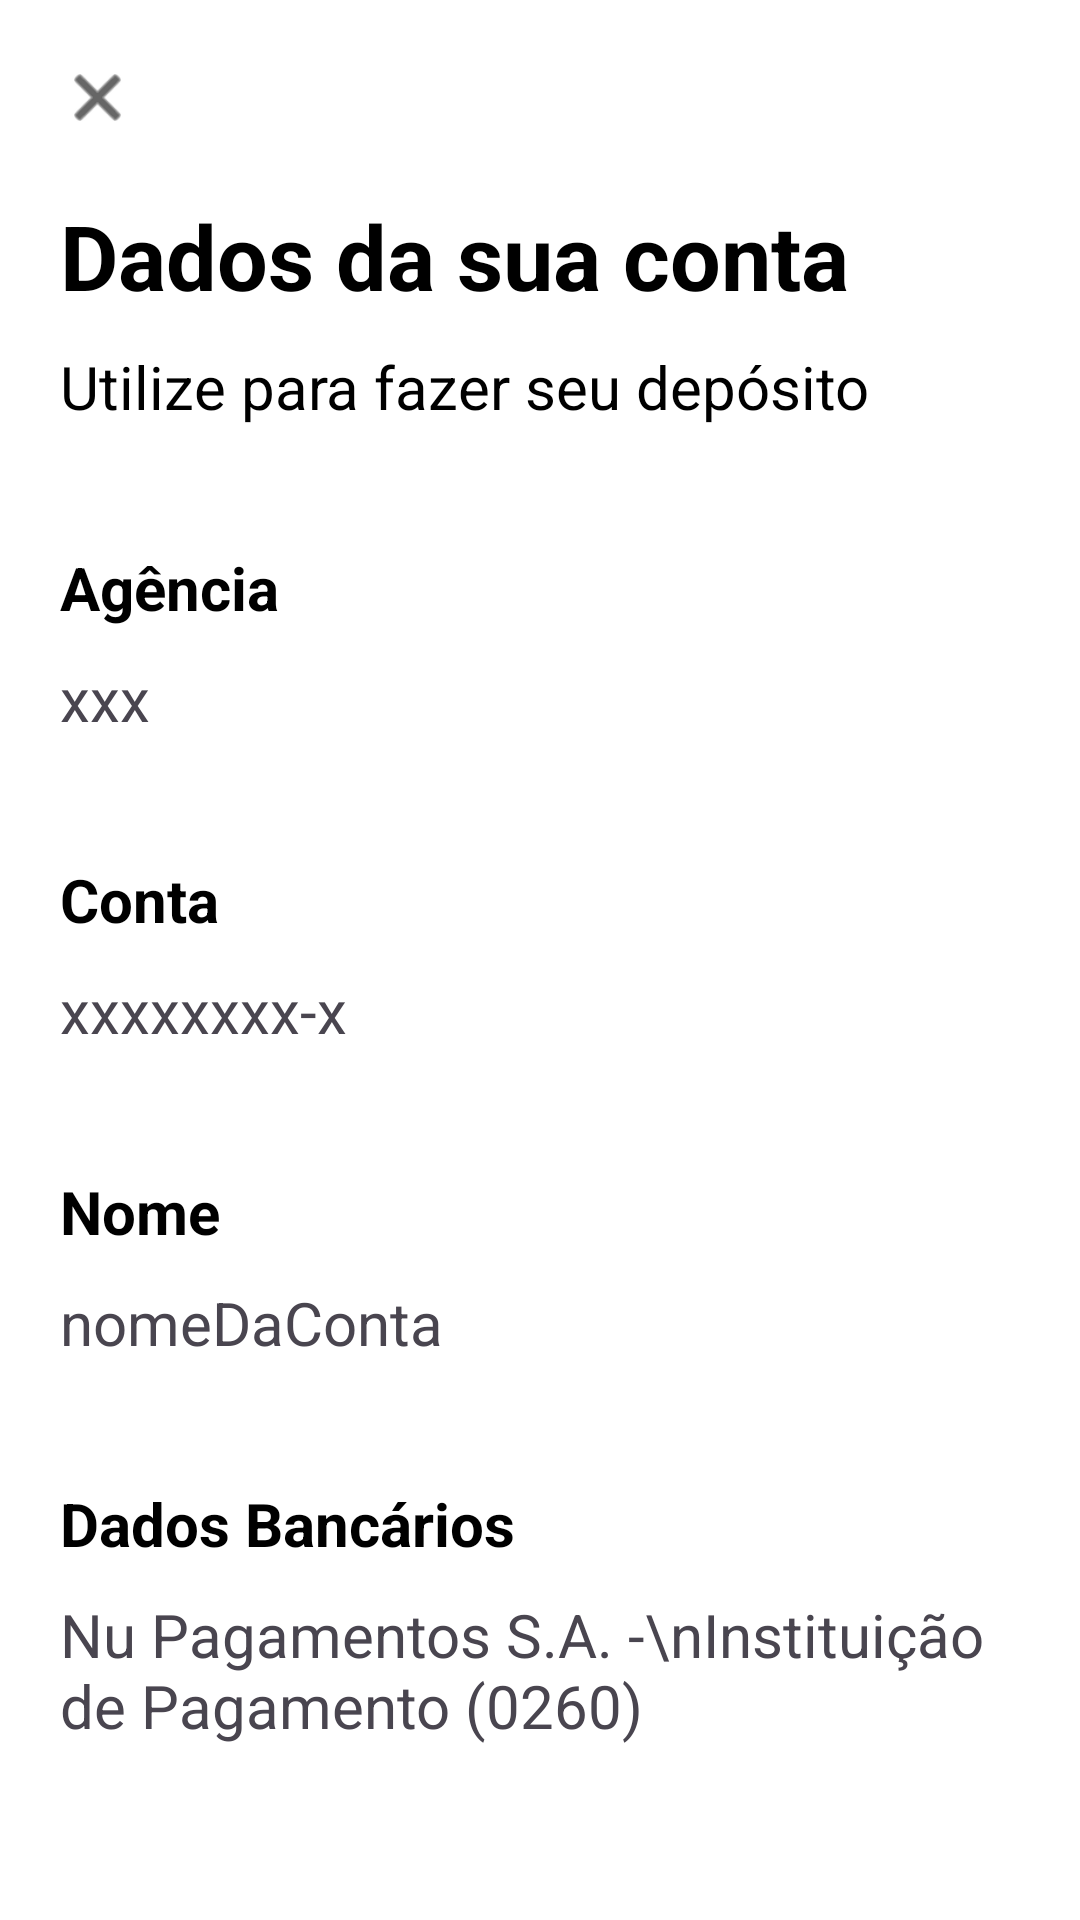

Icons on this 1080*1920 Android screen, each with the point to tap as (x,y):
close clear cancel: (97,97)
